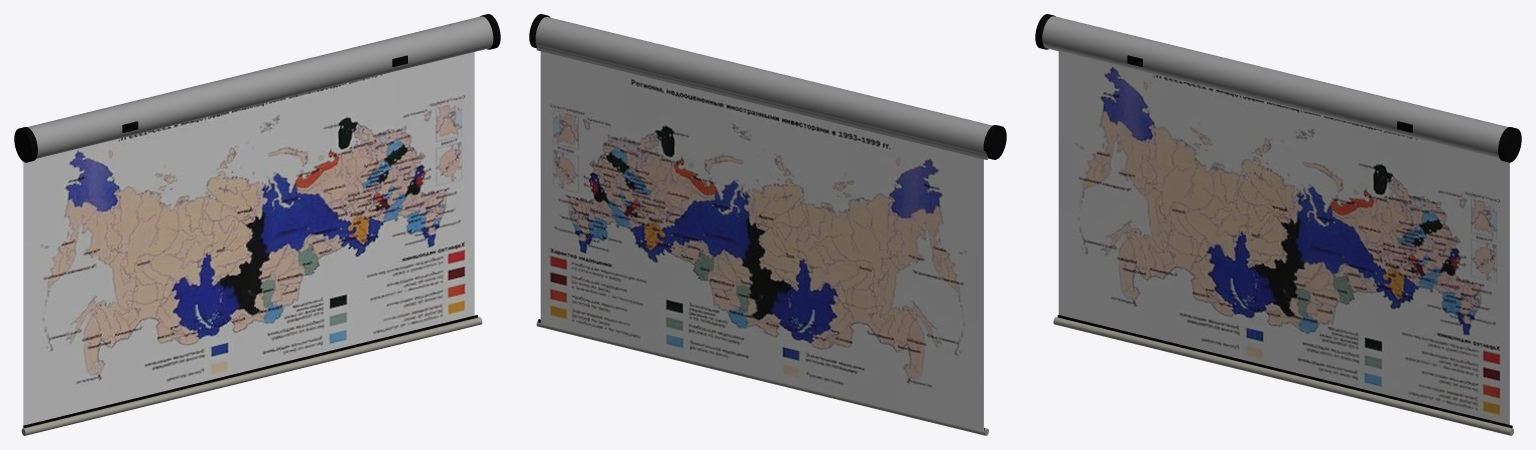
The model's file is ProjectorScreen.FBX.
3 renders of one model, left to right at view 1: azimuth 30°, elevation 25°; view 2: azimuth 150°, elevation 25°; view 3: azimuth 330°, elevation 25°, orthographic.
Parts seen in each view (by area): view 1: ProjectionScreen; view 2: ProjectionScreen; view 3: ProjectionScreen.
Boxes of the visible parts, x1,y1,x2,y2 form: ProjectionScreen: (14, 14, 500, 435); ProjectionScreen: (529, 14, 1006, 435); ProjectionScreen: (1035, 14, 1521, 435).
Bounding box in the file's own units: 328 × 208 × 21.28.
5 materials, 1 textured.
